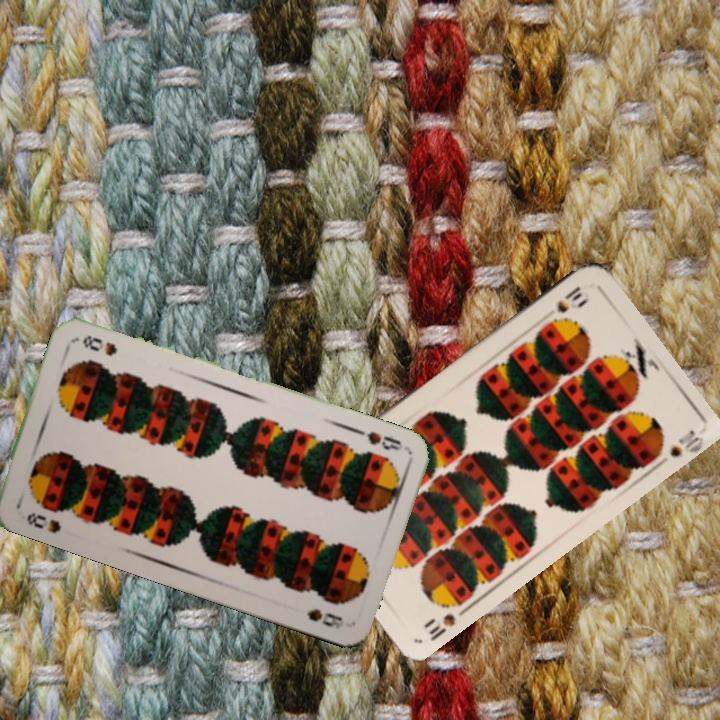S10: (425, 609, 459, 644), (552, 281, 585, 316)
S8: (350, 424, 406, 453), (22, 508, 64, 536)
